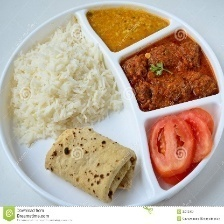sabzi: (119, 28, 219, 109)
